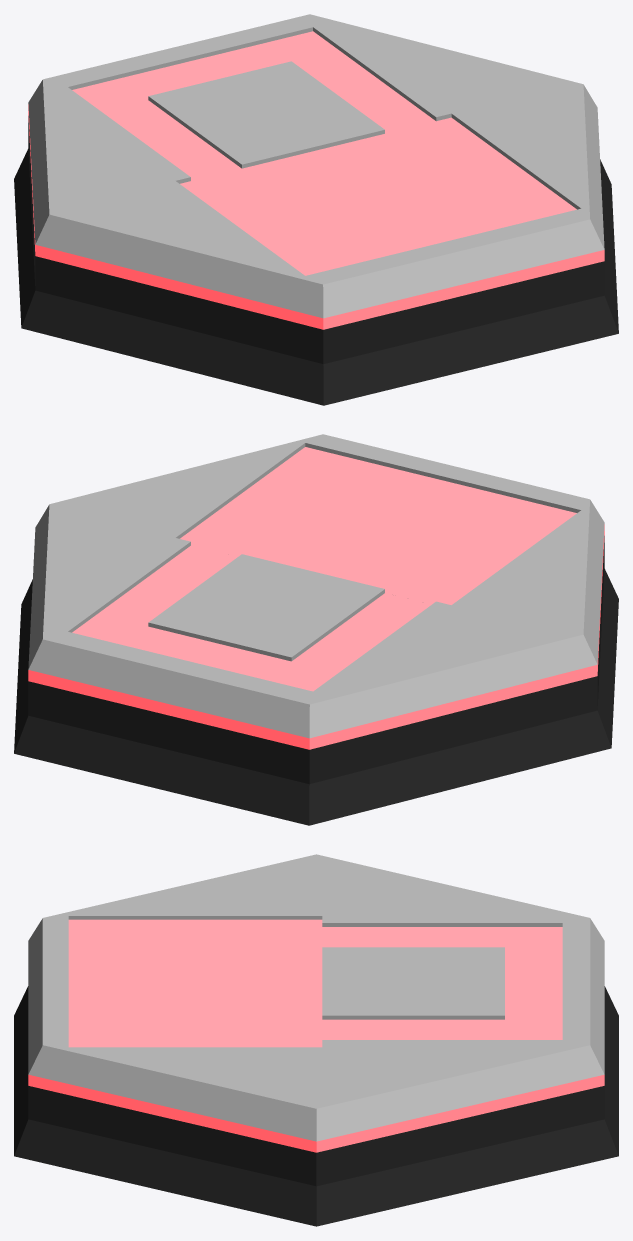
The model's file is Switch 1.fbx.
3 views of the same model, one above another, from view 1: azimuth 30°, elevation 25°; view 2: azimuth 150°, elevation 25°; view 3: azimuth 270°, elevation 25° (orthographic). The views are drawn at different scales.
Visible parts, largest first — view 1: Torus.001; view 2: Torus.001; view 3: Torus.001.
Boxes of the visible parts, x1,y1,x2,y2 form: Torus.001: [14, 14, 618, 405]; Torus.001: [14, 434, 618, 825]; Torus.001: [14, 854, 618, 1226].
Bounding box in the file's own units: 57.75 × 10 × 52.5.
